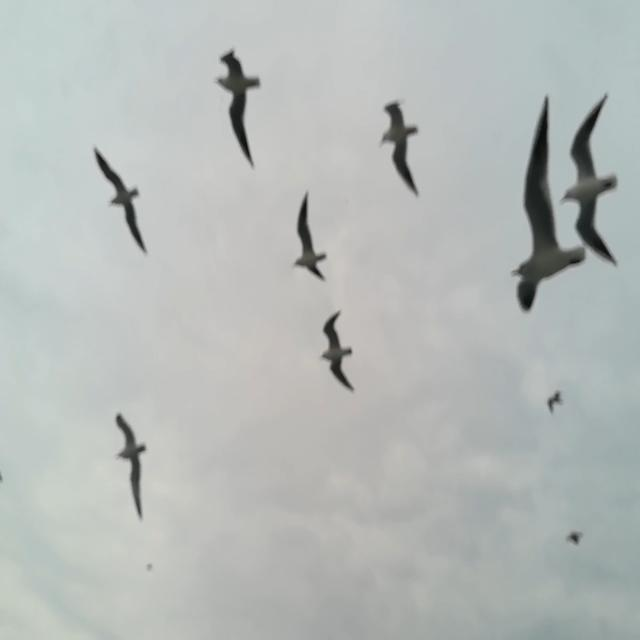bird: (511, 93, 585, 317), (559, 93, 622, 267), (95, 145, 150, 256), (214, 46, 261, 171), (379, 103, 421, 201), (112, 413, 148, 521), (292, 190, 331, 282), (320, 310, 355, 395), (544, 387, 564, 422), (562, 526, 585, 554), (143, 561, 156, 573), (0, 473, 2, 487)
